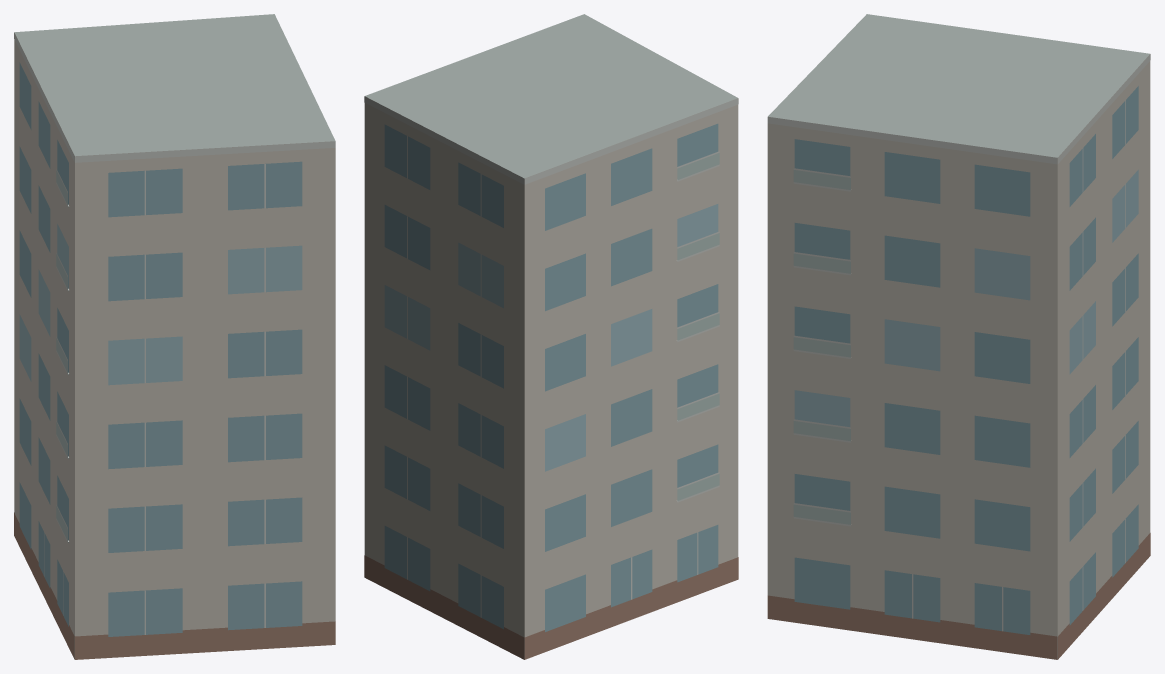
File: survey-upis-32869794.glb
3 renders of one model, left to right at view 1: azimuth 30°, elevation 25°; view 2: azimuth 150°, elevation 25°; view 3: azimuth 270°, elevation 25°, orthographic. The views are drawn at different scales.
Visible parts, largest first — view 1: survey-upis-32869794.tmp; view 2: survey-upis-32869794.tmp; view 3: survey-upis-32869794.tmp.
Boxes of the visible parts, x1,y1,x2,y2 form: survey-upis-32869794.tmp: [14, 14, 335, 659]; survey-upis-32869794.tmp: [364, 14, 738, 659]; survey-upis-32869794.tmp: [767, 14, 1150, 659].
Bounding box in the file's own units: 11.25 × 18.3 × 12.65.
